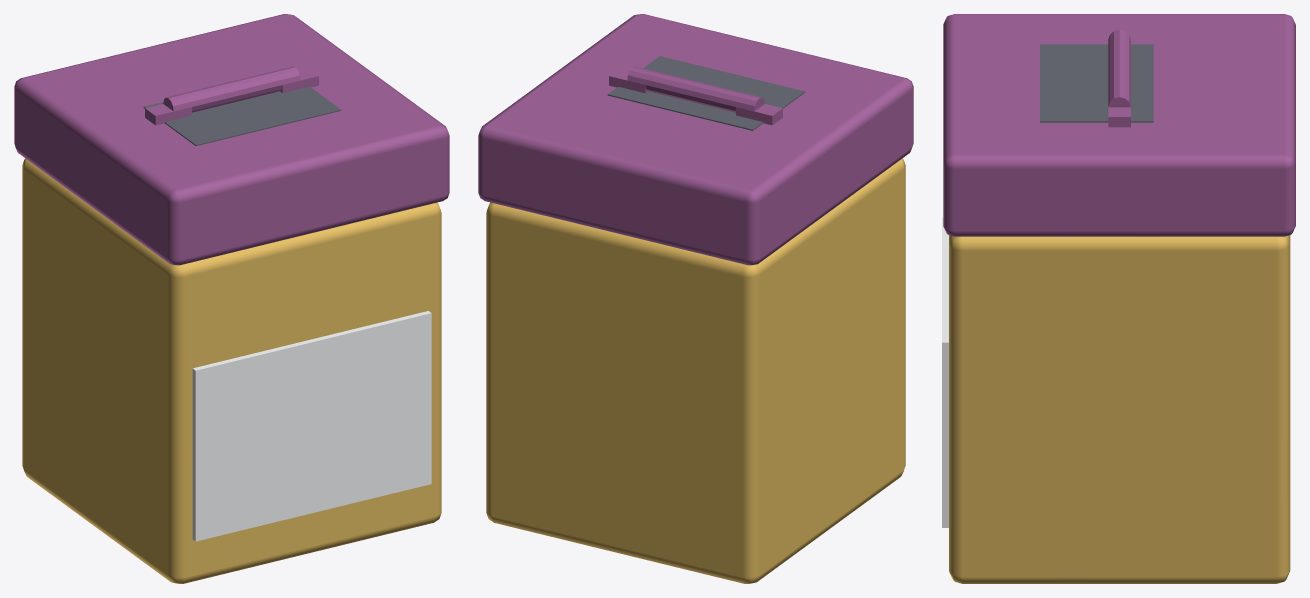
The model's file is pharmacy-and-high-street-chemist-sharps-bin-66a244a7__37524.glb.
3 views of the same model, side by side, from view 1: azimuth 30°, elevation 25°; view 2: azimuth 150°, elevation 25°; view 3: azimuth 270°, elevation 25° (orthographic). The views are drawn at different scales.
Visible parts, largest first — view 1: sharps-bin; view 2: sharps-bin; view 3: sharps-bin.
Part boxes in pixels (bbox=[...]): sharps-bin: bbox=[14, 14, 449, 583]; sharps-bin: bbox=[478, 14, 913, 583]; sharps-bin: bbox=[942, 14, 1295, 583].
Size of the model in its own units: 0.31 by 0.44 by 0.311.
